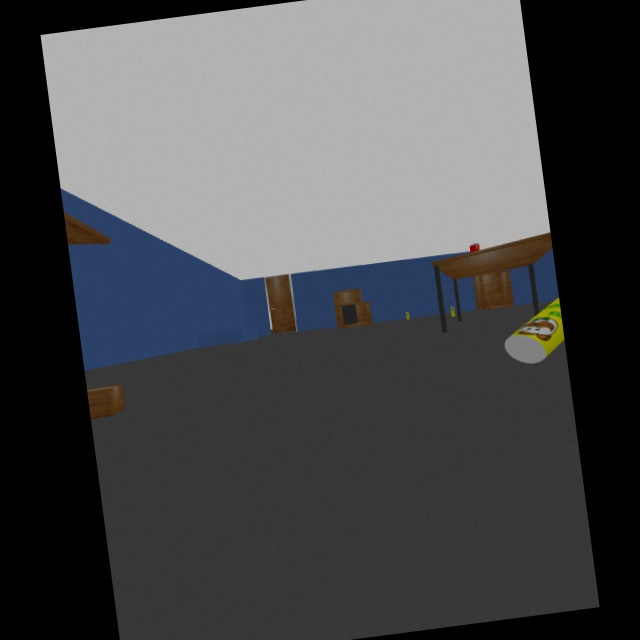chipsdose_gelb: (504, 294, 567, 364), (449, 304, 455, 316), (405, 311, 410, 318)
